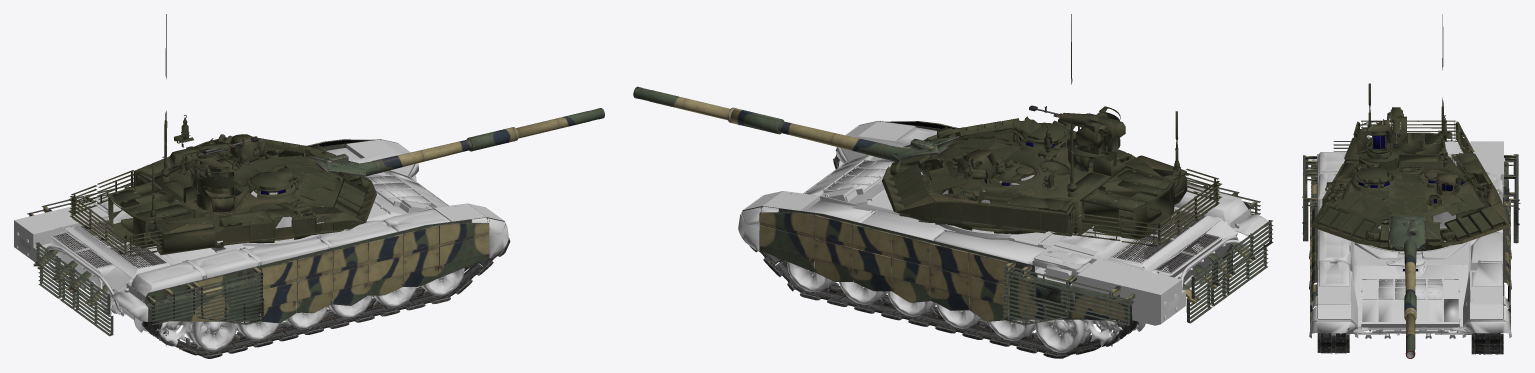
The picture shows the model from 3 angles, left to right: view 1: azimuth 30°, elevation 25°; view 2: azimuth 150°, elevation 25°; view 3: azimuth 270°, elevation 25°; orthographic projection. The views are drawn at different scales.
Visible parts, largest first — view 1: chassis, tourelle_01, decor, era_turret, setka_hull, chenille_droite_01, decor.001, canon_01, setka_turret, tourelle_02, era_hull, Roue_D7 (+8 smaller); view 2: chassis, tourelle_01, decor, setka_hull, era_turret, chenille_gauche_01, canon_01, setka_turret, decor.001, era_hull, tourelle_02, Roue_G7 (+8 smaller); view 3: chassis, decor, tourelle_01, era_turret, era_hull, setka_hull, decor.001, tourelle_02, canon_01, vehicle#ex_armor_02_116, setka_turret, chenille_gauche_01 (+3 smaller).
Part boxes in pixels (x1=…): chassis: x1=14, y1=139, x2=504, y2=332; tourelle_01: x1=108, y1=115, x2=346, y2=248; decor: x1=110, y1=139, x2=508, y2=321; era_turret: x1=133, y1=137, x2=376, y2=248; setka_hull: x1=27, y1=183, x2=264, y2=336; chenille_droite_01: x1=141, y1=238, x2=510, y2=358; decor.001: x1=137, y1=137, x2=369, y2=255; canon_01: x1=353, y1=108, x2=604, y2=176; setka_turret: x1=68, y1=170, x2=163, y2=256; tourelle_02: x1=186, y1=146, x2=242, y2=202; era_hull: x1=367, y1=170, x2=447, y2=208; Roue_D7: x1=185, y1=321, x2=237, y2=351; chassis: x1=742, y1=121, x2=1254, y2=331; tourelle_01: x1=918, y1=111, x2=1184, y2=239; decor: x1=738, y1=121, x2=1268, y2=263; setka_hull: x1=1002, y1=179, x2=1273, y2=325; era_turret: x1=881, y1=118, x2=1135, y2=236; chenille_gauche_01: x1=749, y1=246, x2=1138, y2=358; canon_01: x1=633, y1=86, x2=908, y2=161; setka_turret: x1=1068, y1=168, x2=1221, y2=246; decor.001: x1=890, y1=127, x2=1187, y2=229; era_hull: x1=805, y1=155, x2=893, y2=196; tourelle_02: x1=1067, y1=106, x2=1120, y2=163; Roue_G7: x1=1034, y1=319, x2=1090, y2=352; chassis: x1=1309, y1=141, x2=1511, y2=338; decor: x1=1309, y1=152, x2=1511, y2=338; tourelle_01: x1=1317, y1=83, x2=1499, y2=251; era_turret: x1=1311, y1=153, x2=1509, y2=247; era_hull: x1=1362, y1=279, x2=1458, y2=321; setka_hull: x1=1302, y1=139, x2=1520, y2=243; decor.001: x1=1328, y1=138, x2=1500, y2=241; tourelle_02: x1=1357, y1=116, x2=1406, y2=166; canon_01: x1=1404, y1=239, x2=1417, y2=358; vehicle#ex_armor_02_116: x1=1389, y1=216, x2=1425, y2=249; setka_turret: x1=1353, y1=120, x2=1474, y2=153; chenille_gauche_01: x1=1471, y1=185, x2=1503, y2=354.
Bounding box in the file's own units: 9.86 × 3.95 × 4.99.
